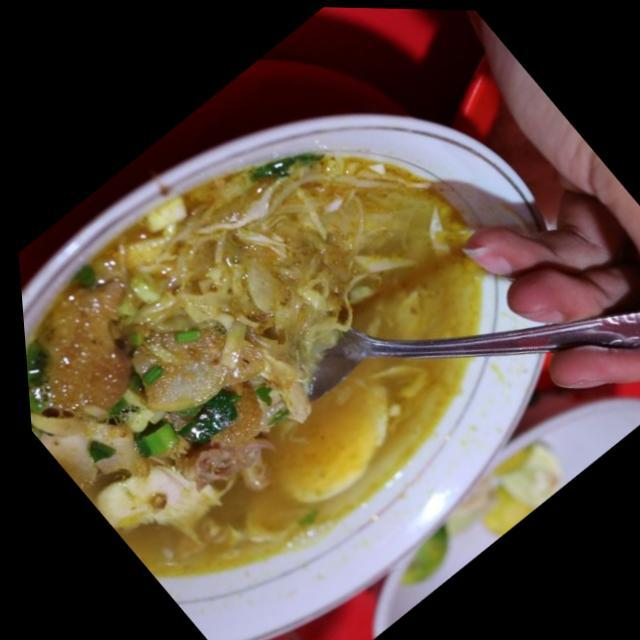Soto: (26, 147, 496, 568)
